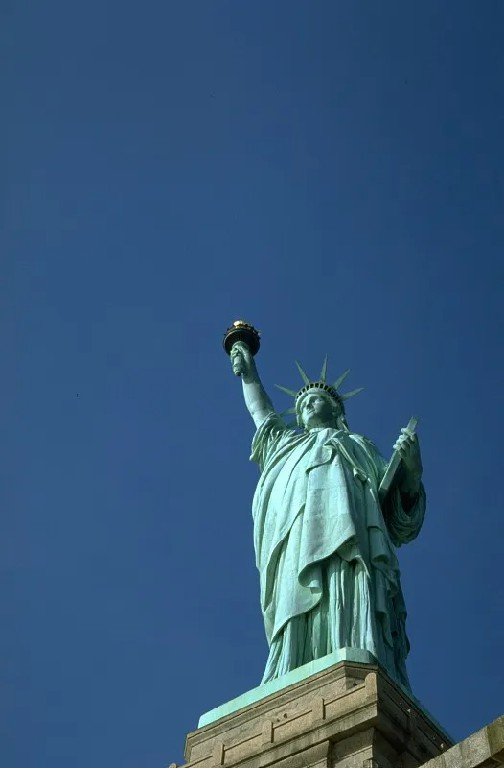SL: (169, 318, 454, 768)
